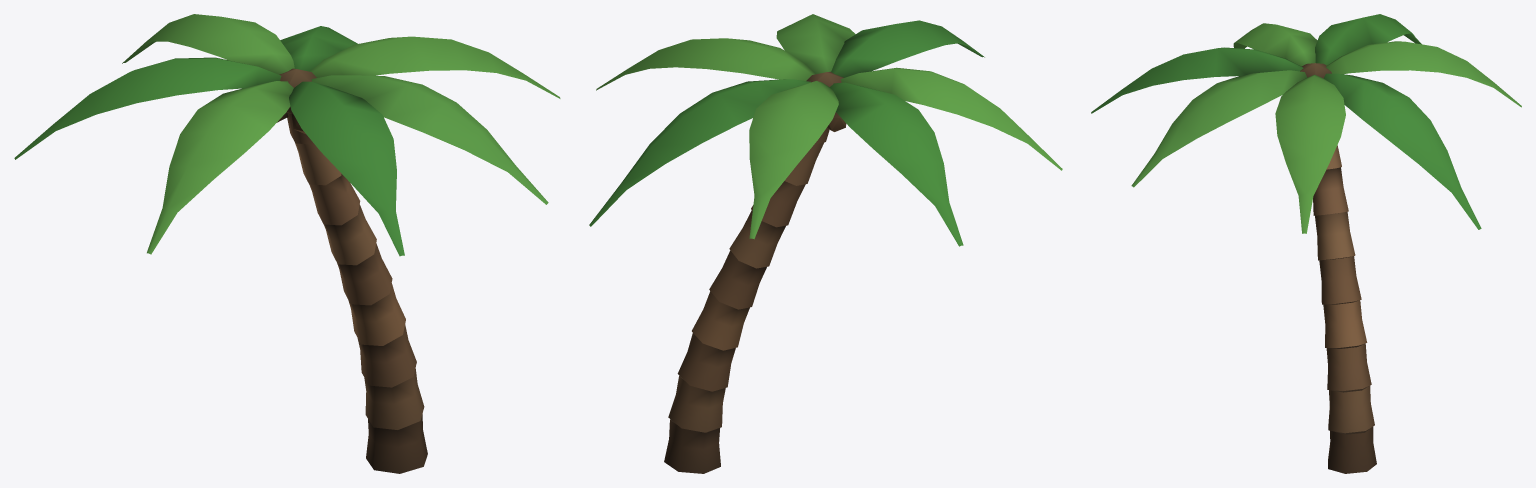
Rendered from HD_Palm_B.glb.
The picture shows the model from 3 angles, left to right: view 1: azimuth 30°, elevation 25°; view 2: azimuth 150°, elevation 25°; view 3: azimuth 270°, elevation 25°; orthographic projection. The views are drawn at different scales.
Parts seen in each view (by area): view 1: HD_Palm_B_2_SmoothPlastic, HD_Palm_B_1_Wood; view 2: HD_Palm_B_2_SmoothPlastic, HD_Palm_B_1_Wood; view 3: HD_Palm_B_2_SmoothPlastic, HD_Palm_B_1_Wood.
Boxes of the visible parts, <box> form: HD_Palm_B_2_SmoothPlastic: <box>14,14,560,256</box>; HD_Palm_B_1_Wood: <box>277,68,427,473</box>; HD_Palm_B_2_SmoothPlastic: <box>589,14,1062,246</box>; HD_Palm_B_1_Wood: <box>664,71,846,473</box>; HD_Palm_B_2_SmoothPlastic: <box>1091,14,1521,233</box>; HD_Palm_B_1_Wood: <box>1300,63,1376,473</box>.
Bounding box in the file's own units: 14.32 × 13.19 × 14.01.
